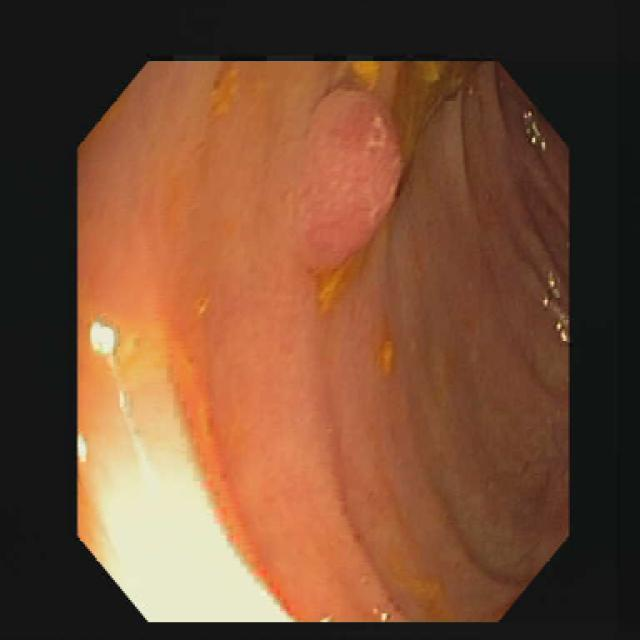tumor: (297, 91, 398, 236)
